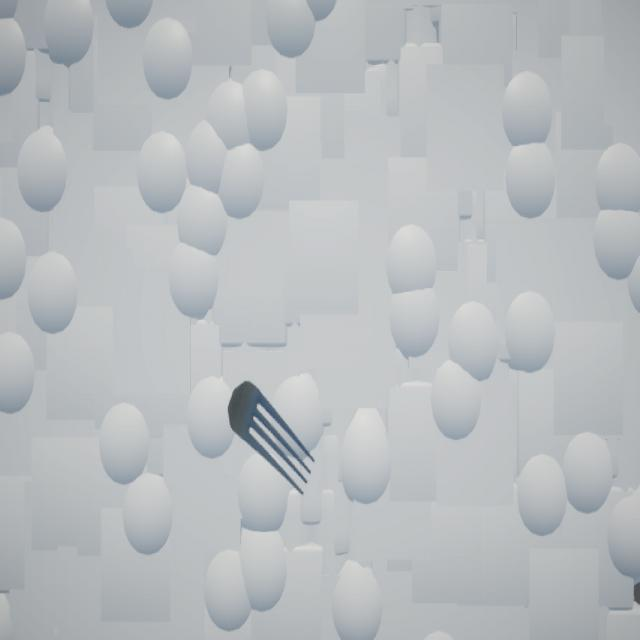top_folk: (228, 381, 316, 496)
